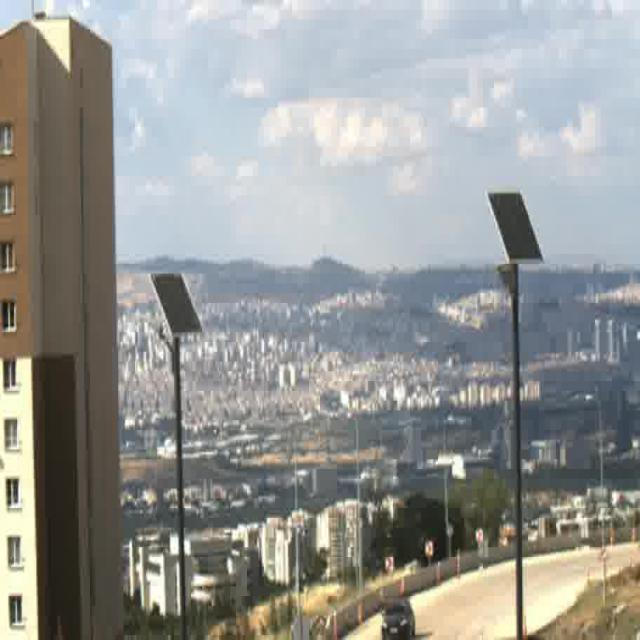Car: (380, 596, 416, 638)
